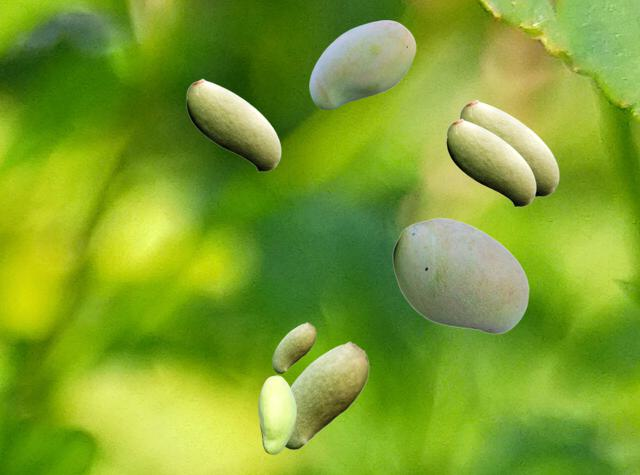green_mango: (392, 217, 528, 333), (459, 99, 558, 196), (309, 20, 415, 108), (285, 341, 368, 448), (186, 78, 280, 171), (446, 118, 535, 206), (258, 375, 295, 453), (272, 322, 315, 372)
